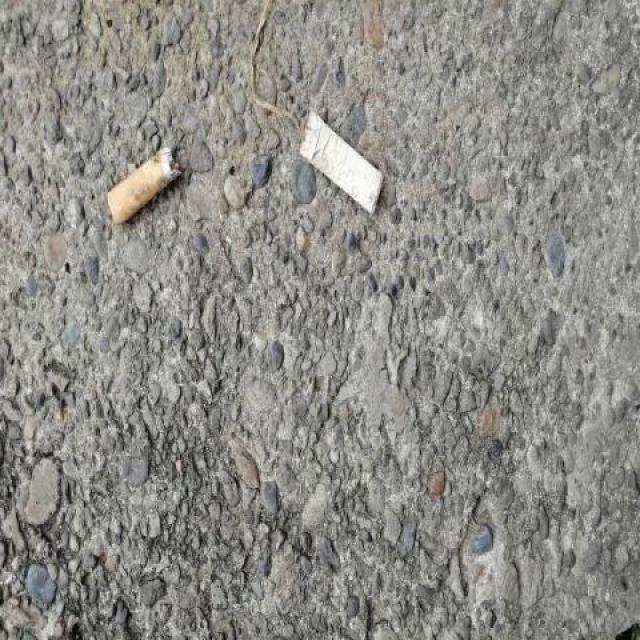non-organic waste: (294, 103, 389, 220), (104, 142, 183, 230)
